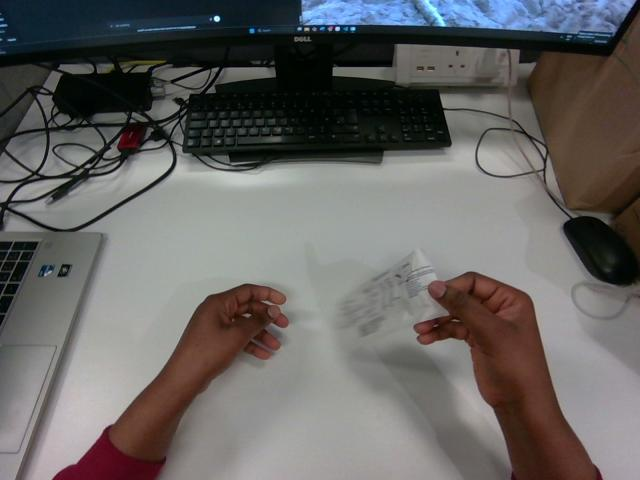syringe: (338, 249, 446, 345)
